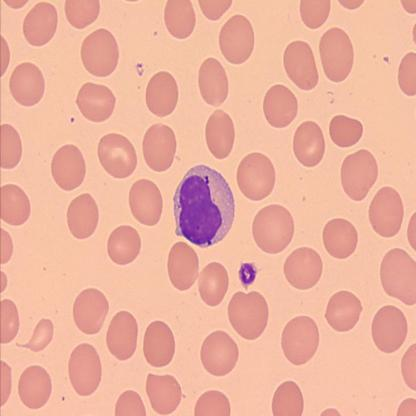Atypical lymphocyte: (170, 162, 236, 250)
